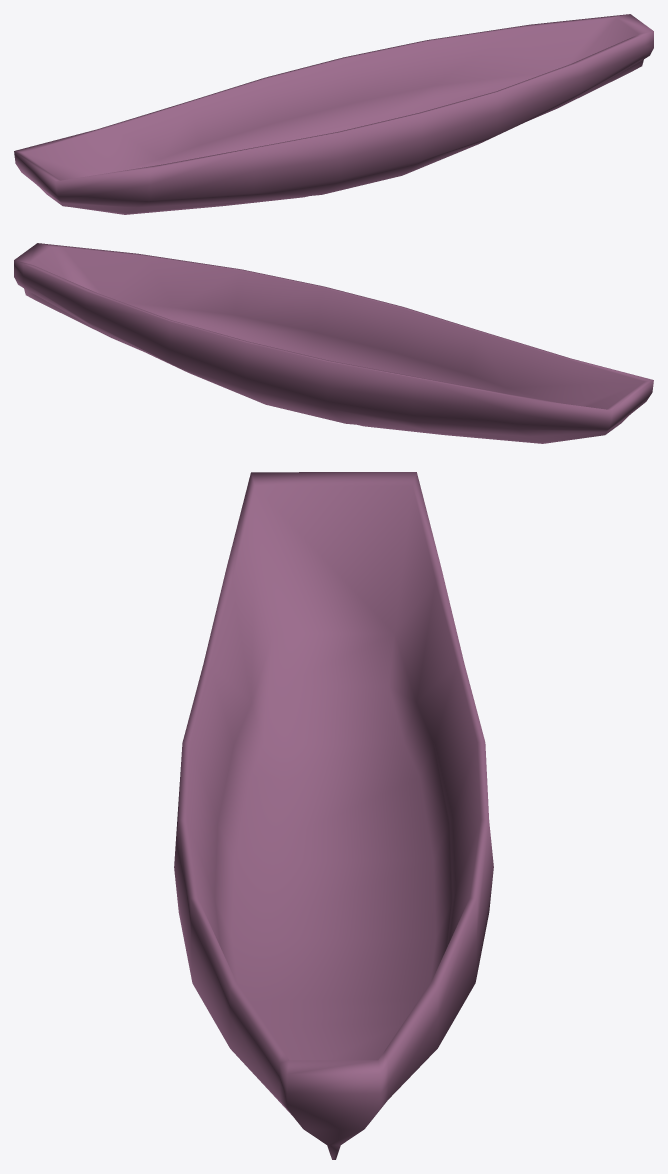
Rendered from boat whole.FBX.
3 renders of one model, top to bottom at view 1: azimuth 30°, elevation 25°; view 2: azimuth 150°, elevation 25°; view 3: azimuth 270°, elevation 25°, orthographic. The views are drawn at different scales.
Parts seen in each view (by area): view 1: boat whole; view 2: boat whole; view 3: boat whole.
Boxes of the visible parts, x1,y1,x2,y2 form: boat whole: (14, 14, 653, 214); boat whole: (14, 243, 653, 443); boat whole: (174, 472, 493, 1159).
Size of the model in its own units: 351 by 53.04 by 80.11.
